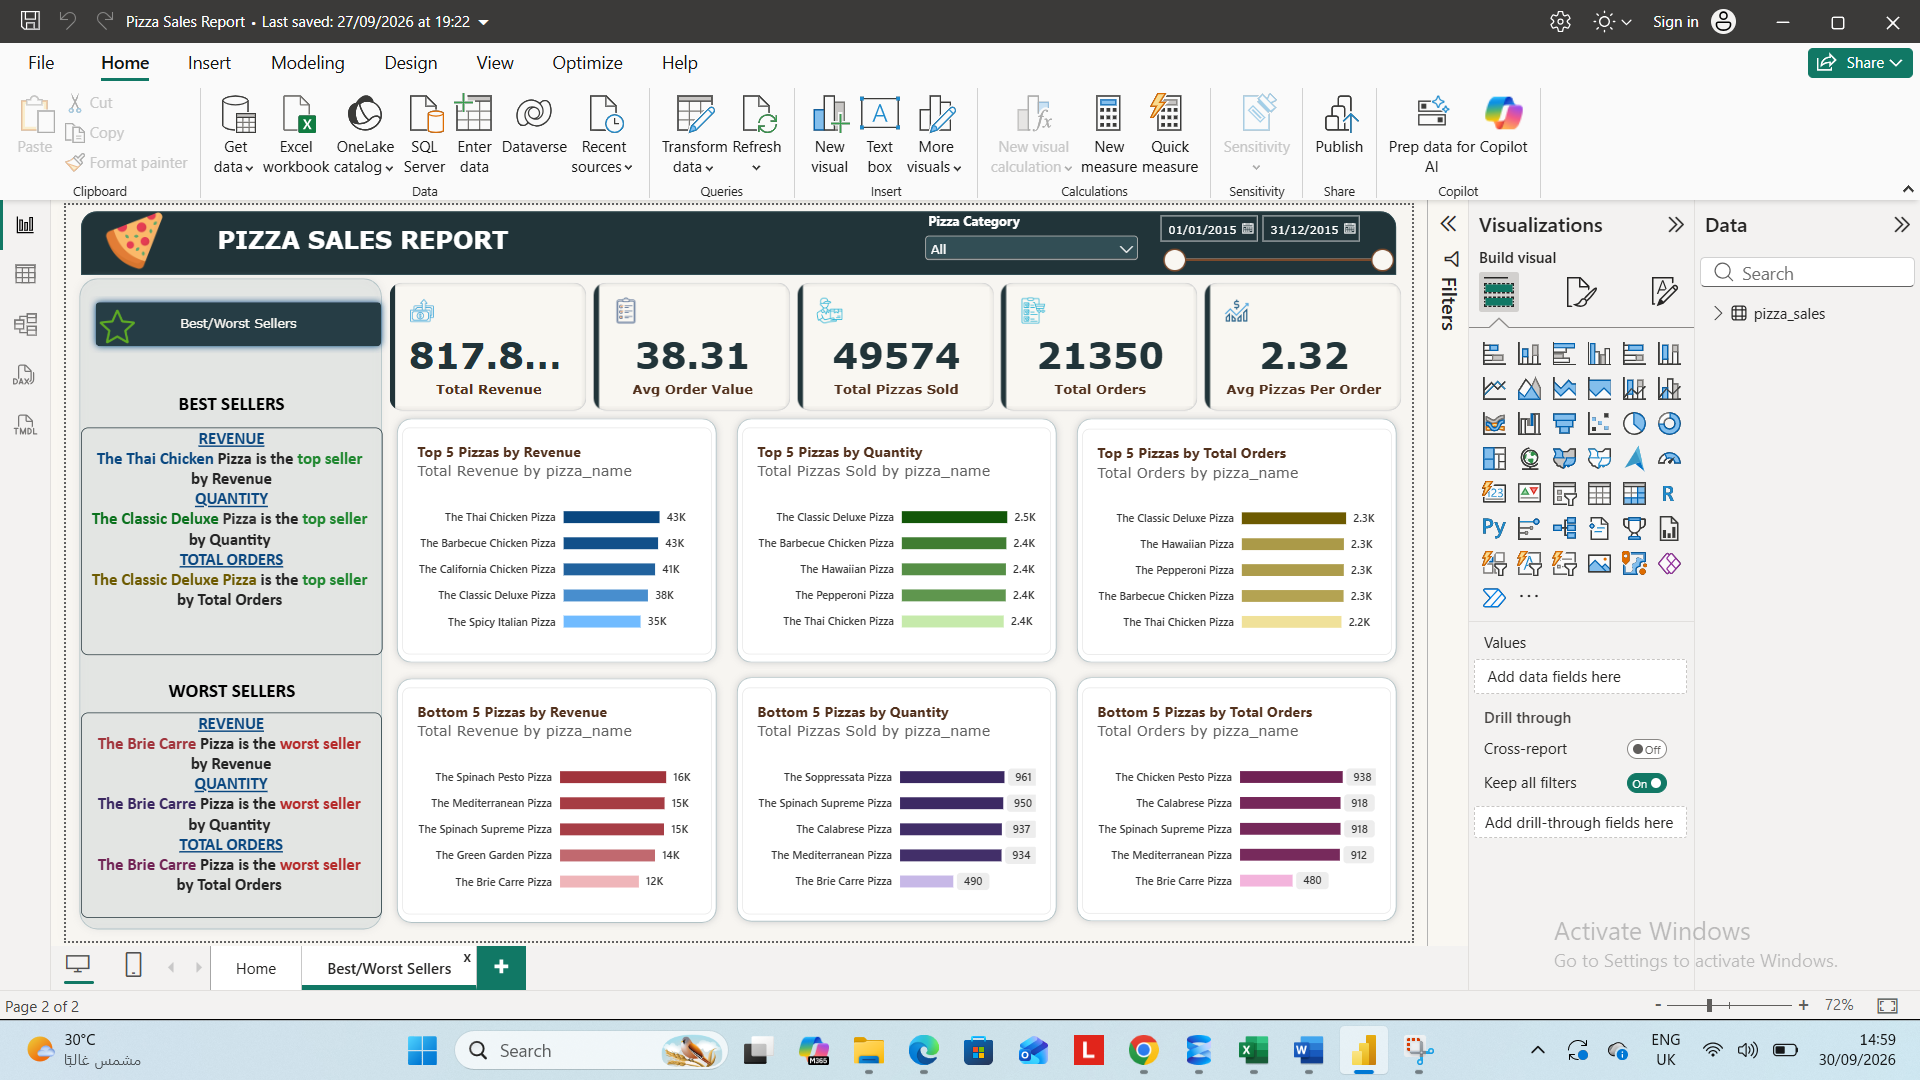

Layout of this report page (visuals, bound fields, positions):
{"tool":"powerbi","page":{"name":"Best/Worst Sellers","canvas":[1500,820],"ordinal":1},"visuals":[{"type":"cardVisual","fields":{"Data":["pizza_sales.Total Revenue","pizza_sales.Avg Order Value","pizza_sales.Total Pizzas Sold","pizza_sales.Total Orders","pizza_sales.Avg Pizzas Per Order"]},"box":[360.4,86.1,1129.7,143.1],"z":0},{"type":"shape","box":[17.2,7.5,1465.4,71],"z":1000},{"type":"textbox","box":[157.4,4.2,346.8,57.1],"z":2000},{"type":"image","box":[26.5,7,99,65.6],"z":4000},{"type":"shape","box":[360.4,230.2,372.3,288],"z":5000},{"type":"shape","box":[7.5,73.2,352.9,741.3],"z":6000},{"type":"textbox","box":[16.7,247.9,335.6,253.5],"z":7000},{"type":"textbox","box":[17.1,565.8,334.8,228.5],"z":8000},{"type":"textbox","box":[17.1,527.9,336.1,37.9],"z":9000},{"type":"textbox","box":[16.7,208.9,335.6,40.4],"z":10000},{"type":"slicer","fields":{"Values":["pizza_sales.pizza_category"]},"box":[952.2,7.5,246.4,71],"z":11000},{"type":"slicer","fields":{"Values":["pizza_sales.order_date"]},"box":[1211.3,7.1,271.1,79.1],"z":12000},{"type":"shape","box":[1117.9,230.2,372.3,288],"z":13000},{"type":"shape","box":[739.2,230.2,372.3,288],"z":14000},{"type":"shape","box":[360.4,519.7,372.3,288.3],"z":15000},{"type":"shape","box":[739.2,518.6,372.3,288.3],"z":16000},{"type":"shape","box":[1117.9,518.6,372.3,288],"z":17000},{"type":"barChart","title":"Top 5 Pizzas by Revenue","fields":{"Category":["pizza_sales.pizza_name"],"Y":["pizza_sales.Total Revenue"]},"box":[374,248.1,344.6,253],"z":18000},{"type":"barChart","title":"Bottom 5 Pizzas by Revenue","fields":{"Category":["pizza_sales.pizza_name"],"Y":["pizza_sales.Total Revenue"]},"box":[374,537.7,344.6,253],"z":19000},{"type":"barChart","title":"Top 5 Pizzas by Quantity","fields":{"Category":["pizza_sales.pizza_name"],"Y":["pizza_sales.Total Pizzas Sold"]},"box":[753.1,248.5,344.3,252.8],"z":20000},{"type":"barChart","title":"Bottom 5 Pizzas by Quantity","fields":{"Category":["pizza_sales.pizza_name"],"Y":["pizza_sales.Total Pizzas Sold"]},"box":[753.1,538,344.3,252.8],"z":21000},{"type":"barChart","title":"Top 5 Pizzas by Total Orders","fields":{"Category":["pizza_sales.pizza_name"],"Y":["pizza_sales.Total Orders"]},"box":[1131.6,249.3,344.6,251.7],"z":22000},{"type":"barChart","title":"Bottom 5 Pizzas by Total Orders","fields":{"Category":["pizza_sales.pizza_name"],"Y":["pizza_sales.Total Orders"]},"box":[1131.9,536.9,344.3,251.8],"z":23000},{"type":"pageNavigator","box":[25.1,100.3,334.2,65.5],"z":24000},{"type":"image","box":[37.6,114.2,39.1,42.8],"z":28000}]}

Visuals, with their boxes on the page's 1500x820 design canvas (x1, y1, x2, y2). These are canvas units, not pixel positions in the 1920x1080 screenshot, which may show the page scaled, cropped or inside an application window:
cardVisual - pizza_sales.Total Revenue x pizza_sales.Avg Order Value: (360, 86, 1490, 229)
shape: (17, 8, 1483, 78)
textbox: (157, 4, 504, 61)
image: (26, 7, 126, 73)
shape: (360, 230, 733, 518)
shape: (8, 73, 360, 814)
textbox: (17, 248, 352, 501)
textbox: (17, 566, 352, 794)
textbox: (17, 528, 353, 566)
textbox: (17, 209, 352, 249)
slicer - pizza_sales.pizza_category: (952, 8, 1199, 78)
slicer - pizza_sales.order_date: (1211, 7, 1482, 86)
shape: (1118, 230, 1490, 518)
shape: (739, 230, 1112, 518)
shape: (360, 520, 733, 808)
shape: (739, 519, 1112, 807)
shape: (1118, 519, 1490, 807)
"Top 5 Pizzas by Revenue" barChart: (374, 248, 719, 501)
"Bottom 5 Pizzas by Revenue" barChart: (374, 538, 719, 791)
"Top 5 Pizzas by Quantity" barChart: (753, 248, 1097, 501)
"Bottom 5 Pizzas by Quantity" barChart: (753, 538, 1097, 791)
"Top 5 Pizzas by Total Orders" barChart: (1132, 249, 1476, 501)
"Bottom 5 Pizzas by Total Orders" barChart: (1132, 537, 1476, 789)
pageNavigator: (25, 100, 359, 166)
image: (38, 114, 77, 157)
